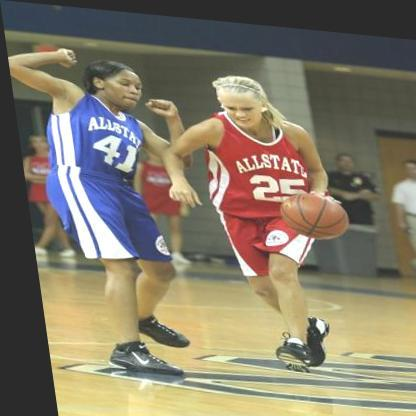basketball: (273, 185, 346, 237)
